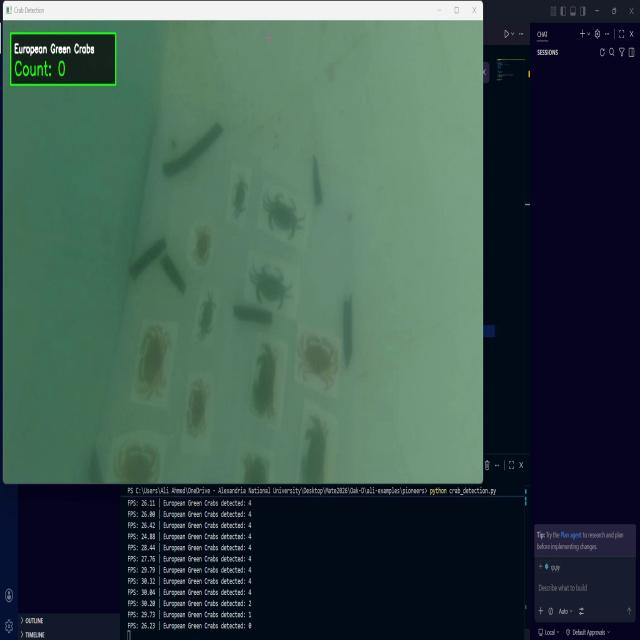European_Green_Crab: (246, 254, 297, 315), (260, 186, 305, 243), (195, 288, 217, 341), (230, 175, 249, 220)
